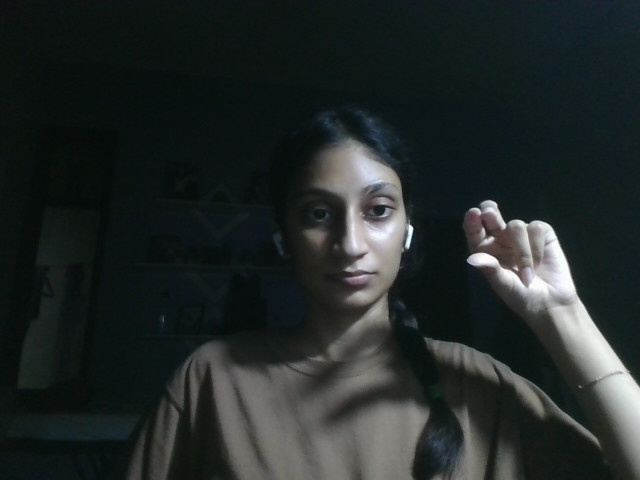no: (463, 198, 582, 320)
